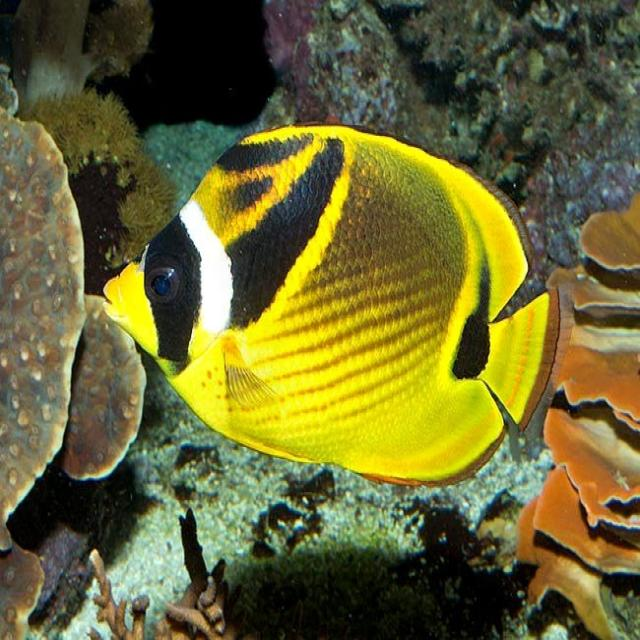ButterflyFish: (104, 126, 559, 489)
